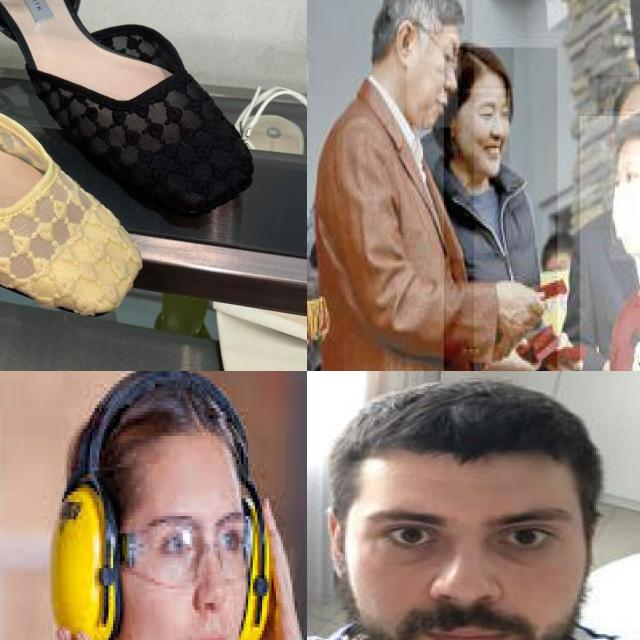Ear-protection: (45, 460, 120, 640), (241, 488, 269, 640)
No_Ear-Protection: (392, 15, 416, 68)
No_Glasses: (328, 494, 609, 572)
Sandals: (0, 0, 307, 259), (0, 0, 148, 331)
face_mask: (610, 155, 640, 260)
face_nomask: (349, 485, 587, 640), (407, 34, 460, 130), (458, 93, 511, 176)
glasses: (120, 502, 258, 579)
hand_noglove: (495, 270, 549, 332)
head_nohelmet: (345, 372, 600, 494), (461, 47, 516, 91), (396, 0, 468, 31), (611, 102, 640, 159)
person: (307, 371, 640, 640), (0, 371, 307, 640), (307, 0, 474, 371), (444, 47, 559, 371)
